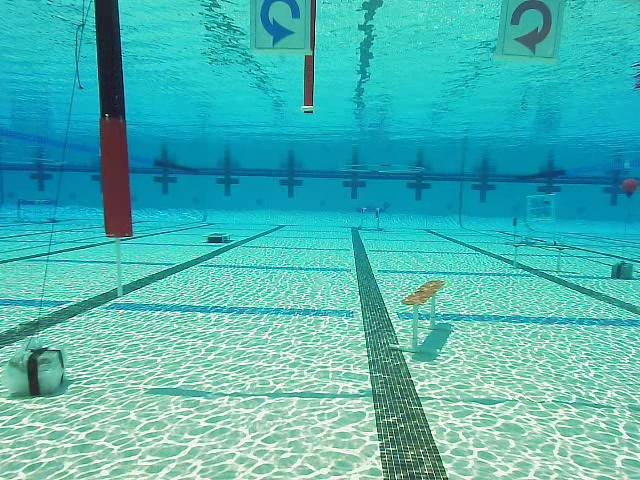buoy: (622, 178, 637, 198)
dropper: (204, 230, 232, 247)
table: (14, 195, 64, 226), (354, 206, 386, 232)
torpedo: (524, 193, 556, 220)
